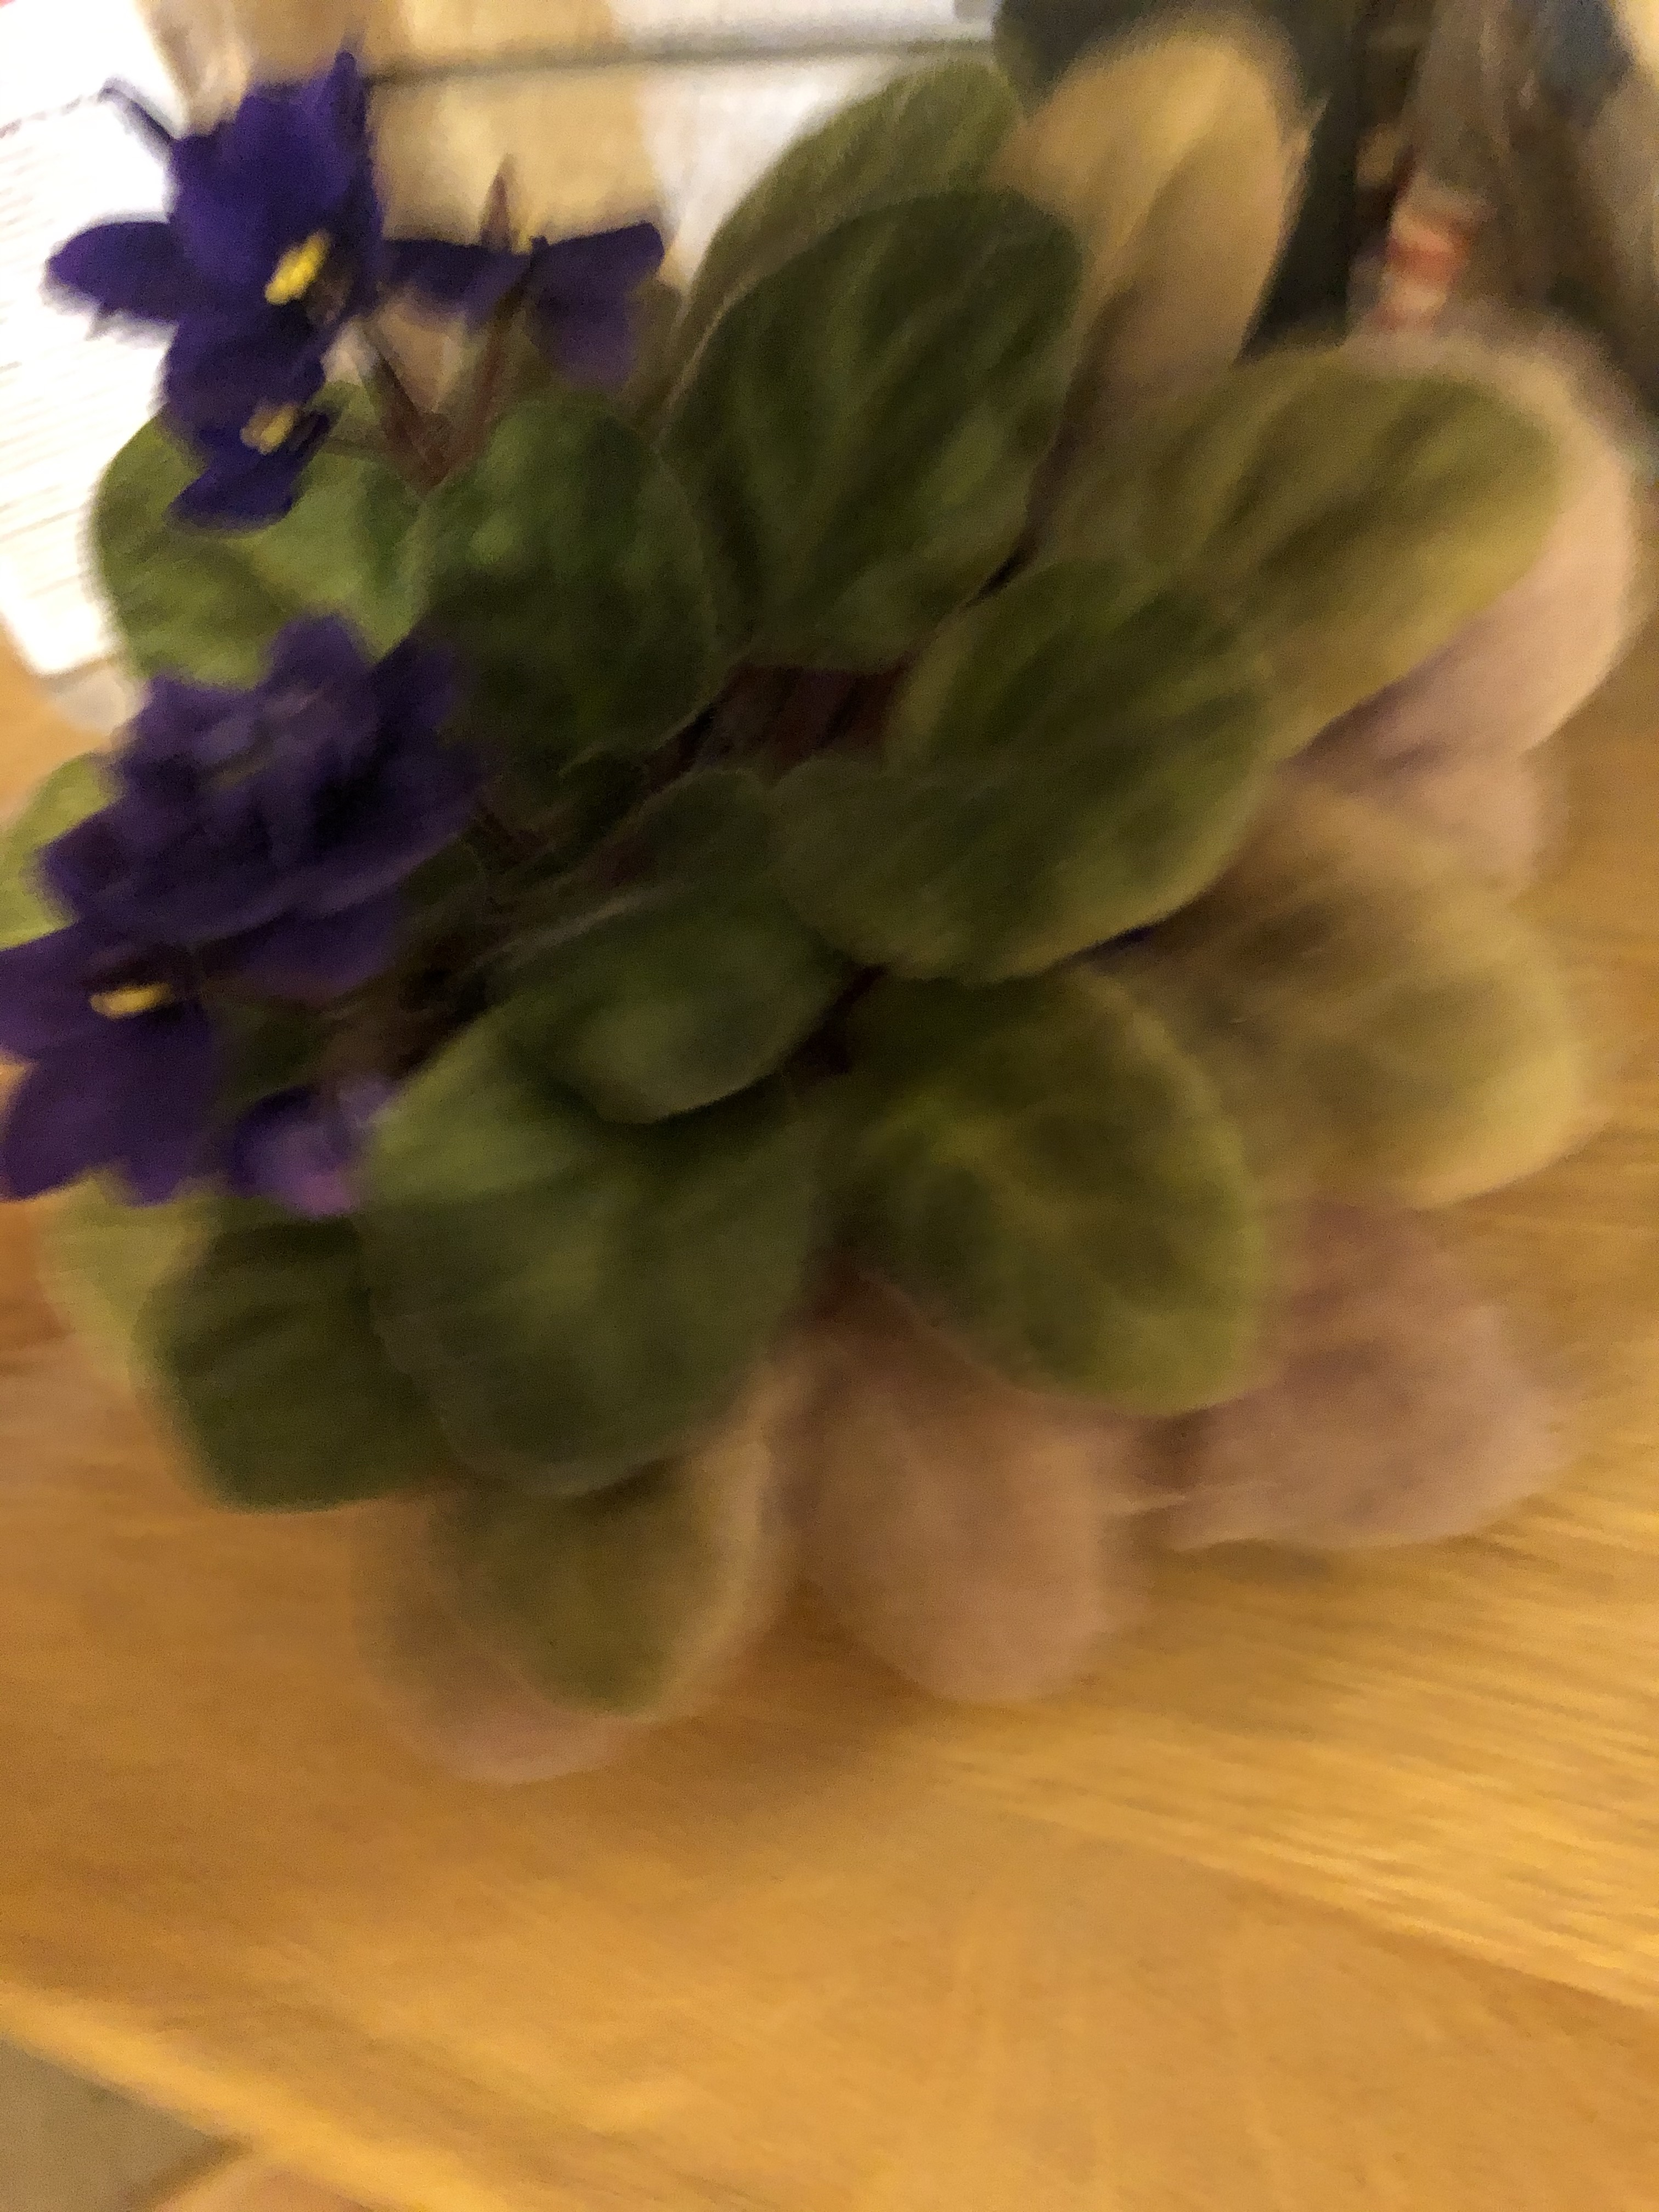ignore: (26, 73, 1624, 1669)
